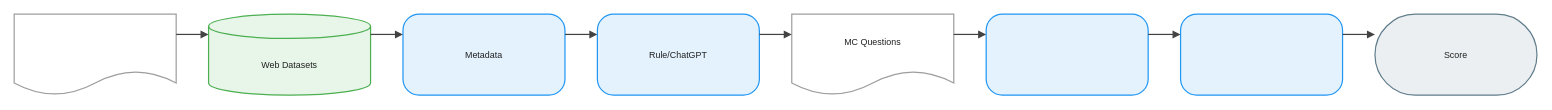
Some shapes in this 1552 by 110 pixel diagram are drawn without their labels. Here are the shapes that lost their labels. From the top down, the centre of each, then its label:
At (94,54): "Task Names".
At (1066,54): "Task Map".
At (1261,54): "30 LVLMs".
